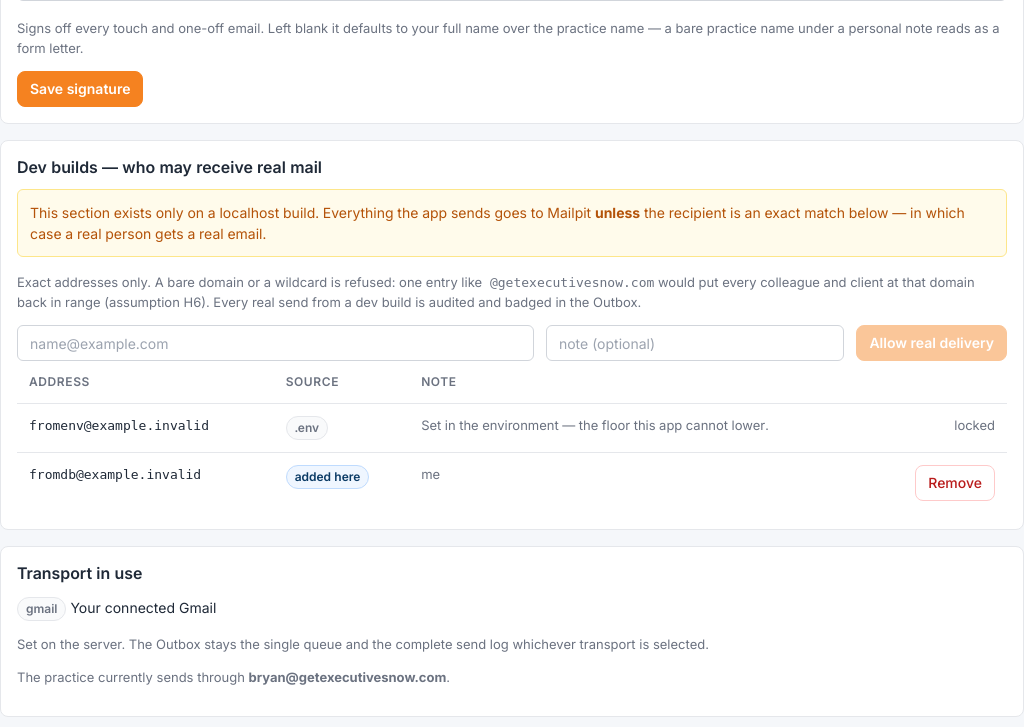
Test: EmailSettings — dev delivery section › surfaces the H6 refusal for a wildcard
(page scrolled)
Type "@getexecutivesnow.com" into the field named "Address to allow" at point(275, 343), box [17,325,534,361]
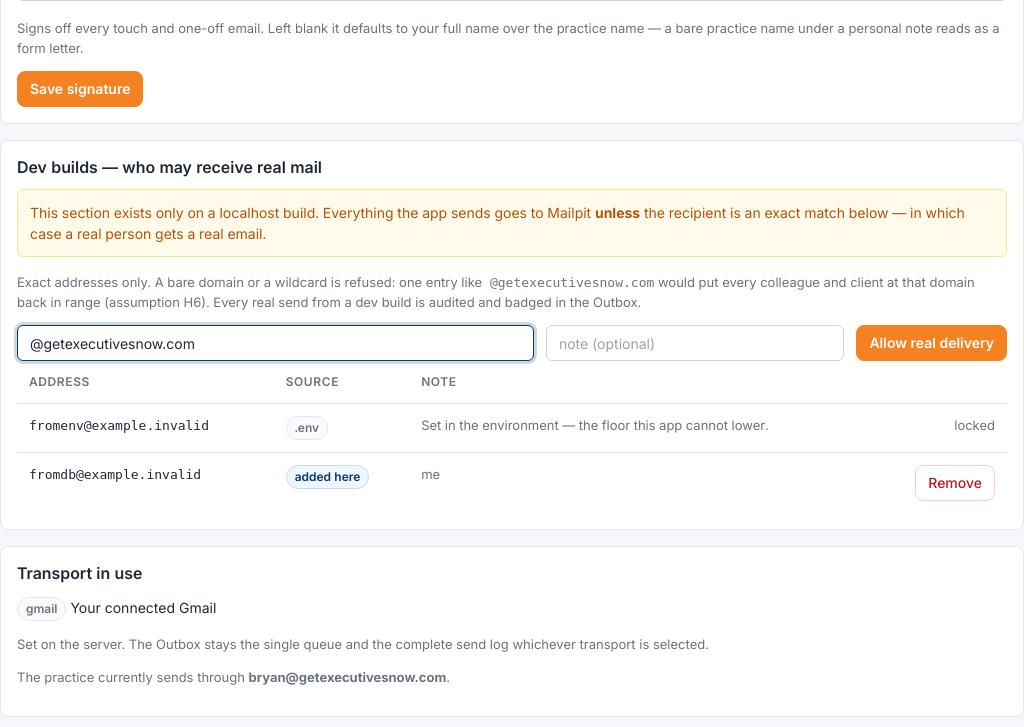
Click the button "Allow real delivery" at point(932, 343), box [856,325,1007,361]
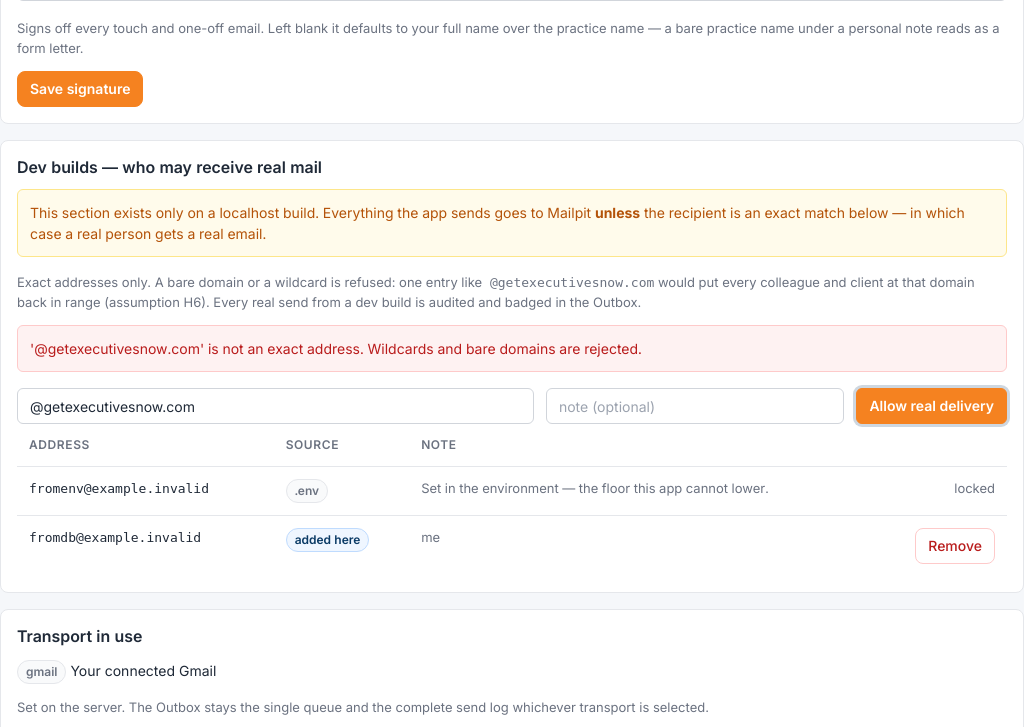
Now the text "not an exact address" is shown, box [30,340,642,357]
